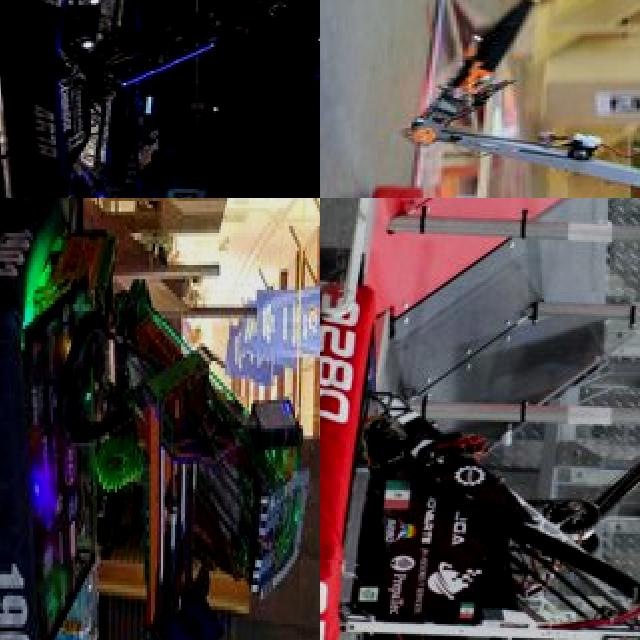FRC-Robots: (0, 198, 320, 640), (320, 198, 640, 640), (322, 0, 640, 198), (4, 0, 297, 197), (74, 146, 292, 198)
